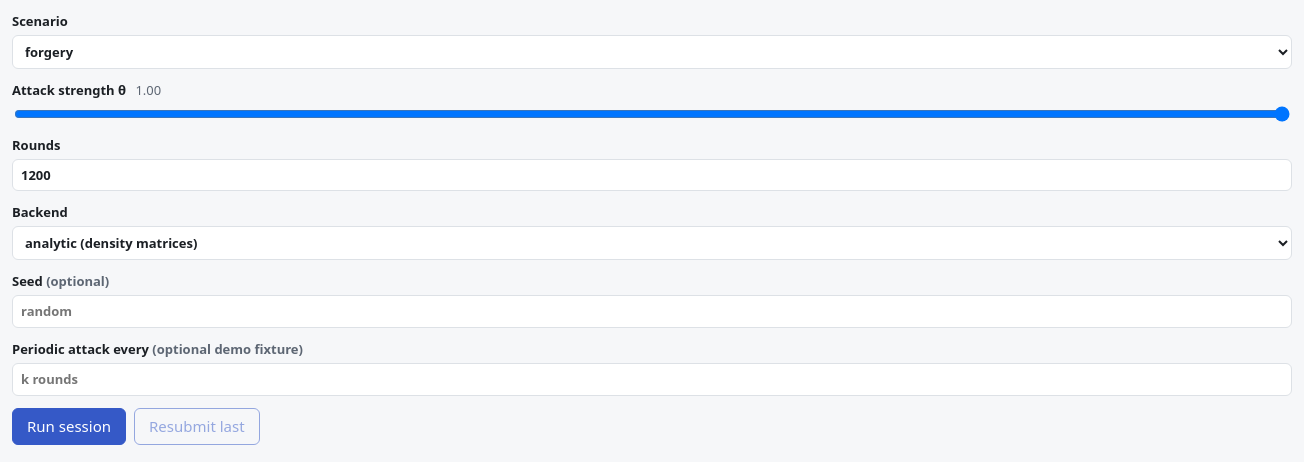
Test: SessionForm › disables theta slider for legitimate hypothesis
The image size is (1304, 462).
Select "legitimate" in the dropdown labelled "Scenario" at (652, 52), box x1=12 y1=35 x2=1292 y2=69
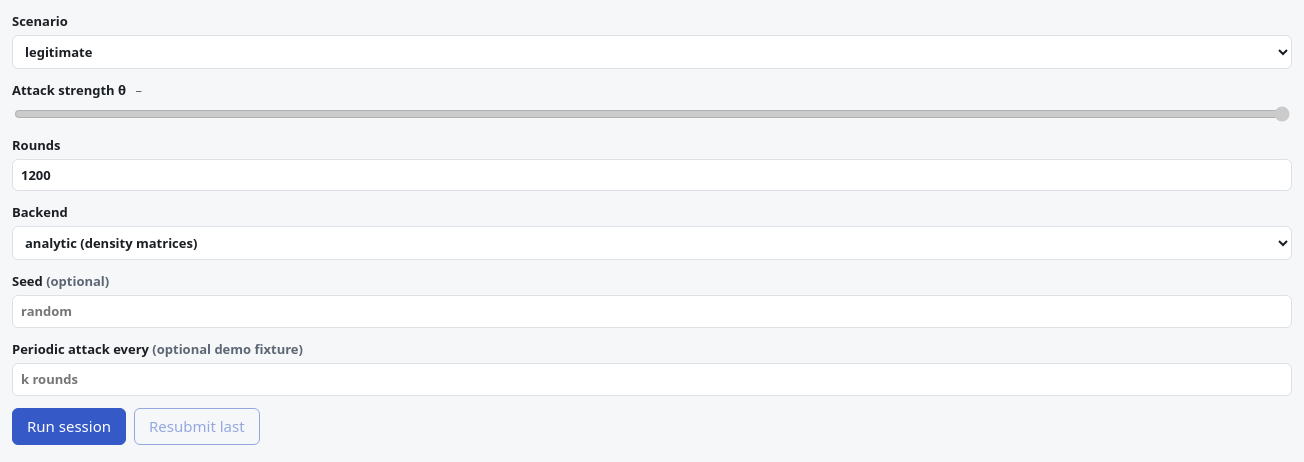
Expected: the slider is disabled, x1=14 y1=106 x2=1290 y2=122
